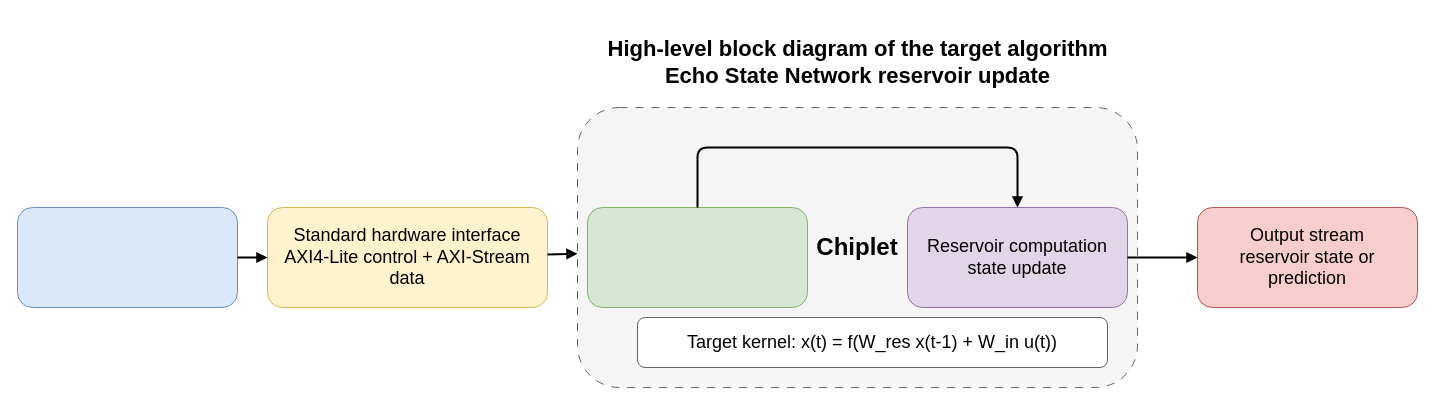
Image size: 1435x413. Some labels were removed from this diagram. Each missing label, with the box of its shape:
Host system CPU / software baseline: (16, 206, 238, 308)
On-chip memory input, state, and reservoir weights: (586, 206, 808, 308)
